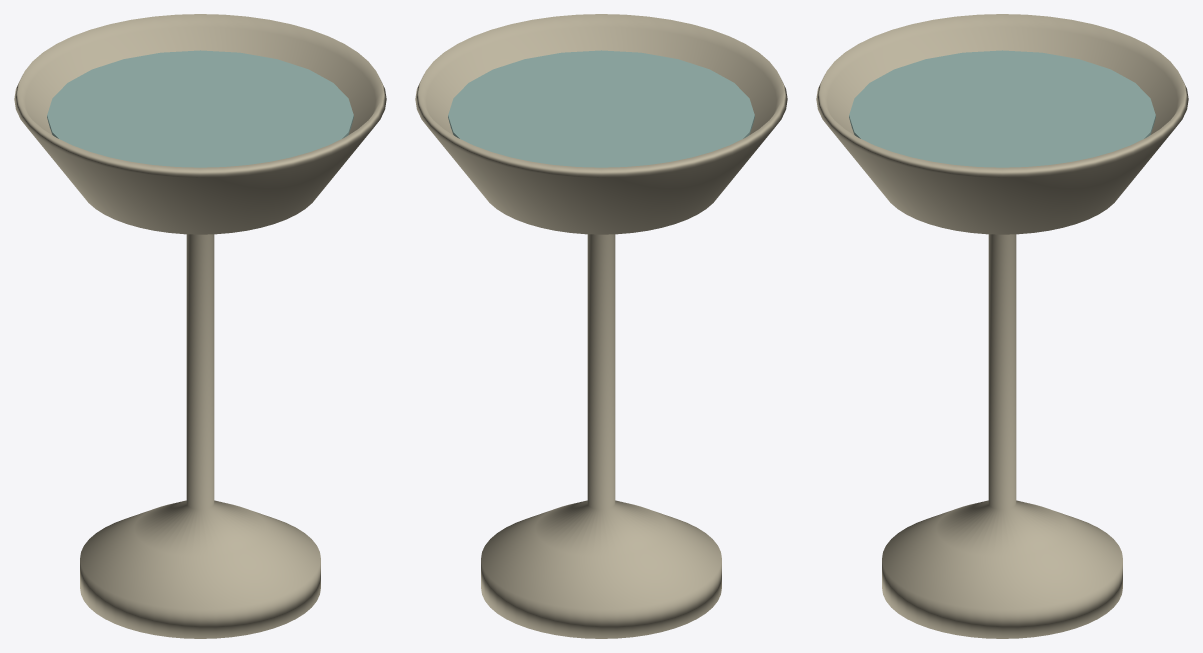
File: birdbath.glb
3 views of the same model, side by side, from view 1: azimuth 30°, elevation 25°; view 2: azimuth 150°, elevation 25°; view 3: azimuth 270°, elevation 25° (orthographic).
Visible parts, largest first — view 1: birdbath-pedestal, open-birdbath-bowl, recessed-birdbath-water; view 2: birdbath-pedestal, open-birdbath-bowl, recessed-birdbath-water; view 3: birdbath-pedestal, open-birdbath-bowl, recessed-birdbath-water.
Part boxes in pixels (left/top/right/bottom): birdbath-pedestal: left=80, top=234, right=320, bottom=638; open-birdbath-bowl: left=14, top=14, right=386, bottom=234; recessed-birdbath-water: left=47, top=50, right=353, bottom=167; birdbath-pedestal: left=481, top=234, right=721, bottom=638; open-birdbath-bowl: left=415, top=14, right=787, bottom=234; recessed-birdbath-water: left=448, top=50, right=754, bottom=167; birdbath-pedestal: left=882, top=234, right=1122, bottom=638; open-birdbath-bowl: left=816, top=14, right=1188, bottom=234; recessed-birdbath-water: left=849, top=50, right=1155, bottom=167.
Size of the model in its own units: 0.68 by 1 by 0.68.
